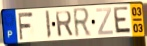E: (113, 6, 133, 36)
F: (17, 11, 34, 41)
I: (44, 10, 52, 41)
R: (72, 7, 92, 40), (54, 10, 74, 38)
Z: (95, 7, 114, 37)
